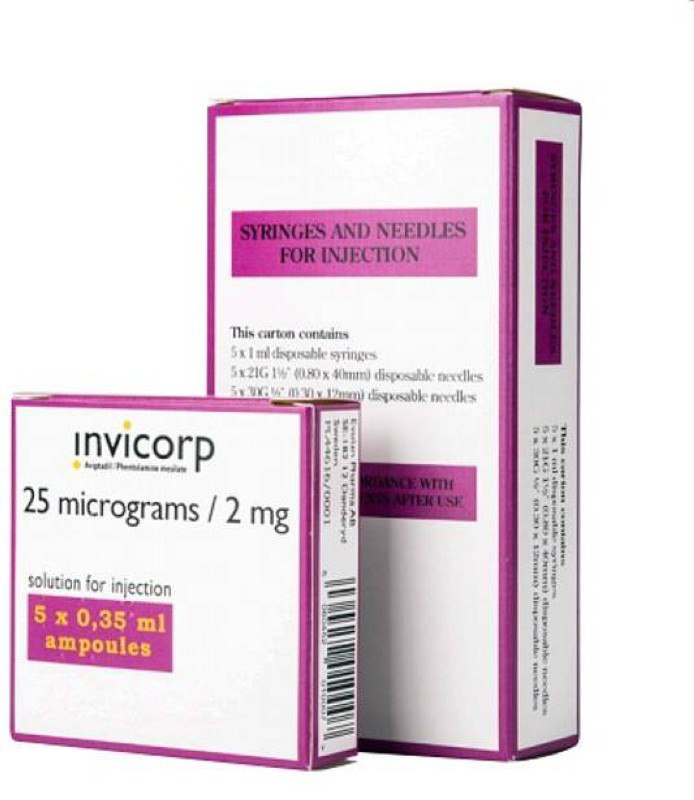Medicine: (194, 92, 588, 800), (4, 382, 364, 778)
